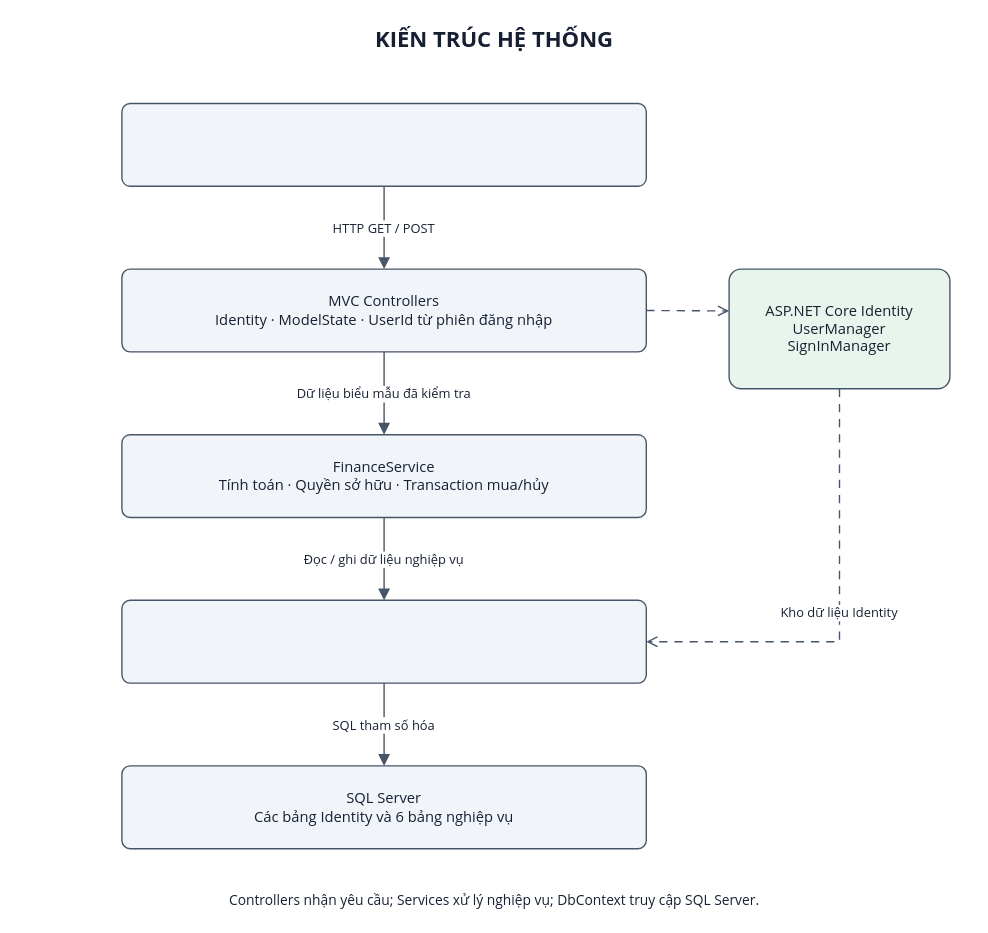
Image size: 988x933. Some labels were removed from this diagram. Each missing label, with the centre of its shape:
"AppDbContext · Entity Framework Core LINQ · Ánh xạ · Ràng buộc dữ liệu" belongs at (x=384, y=641).
"Razor Views + HTML / CSS / JavaScript Giao diện tiếng Việt · Biểu mẫu và CSRF" belongs at (x=384, y=144).
